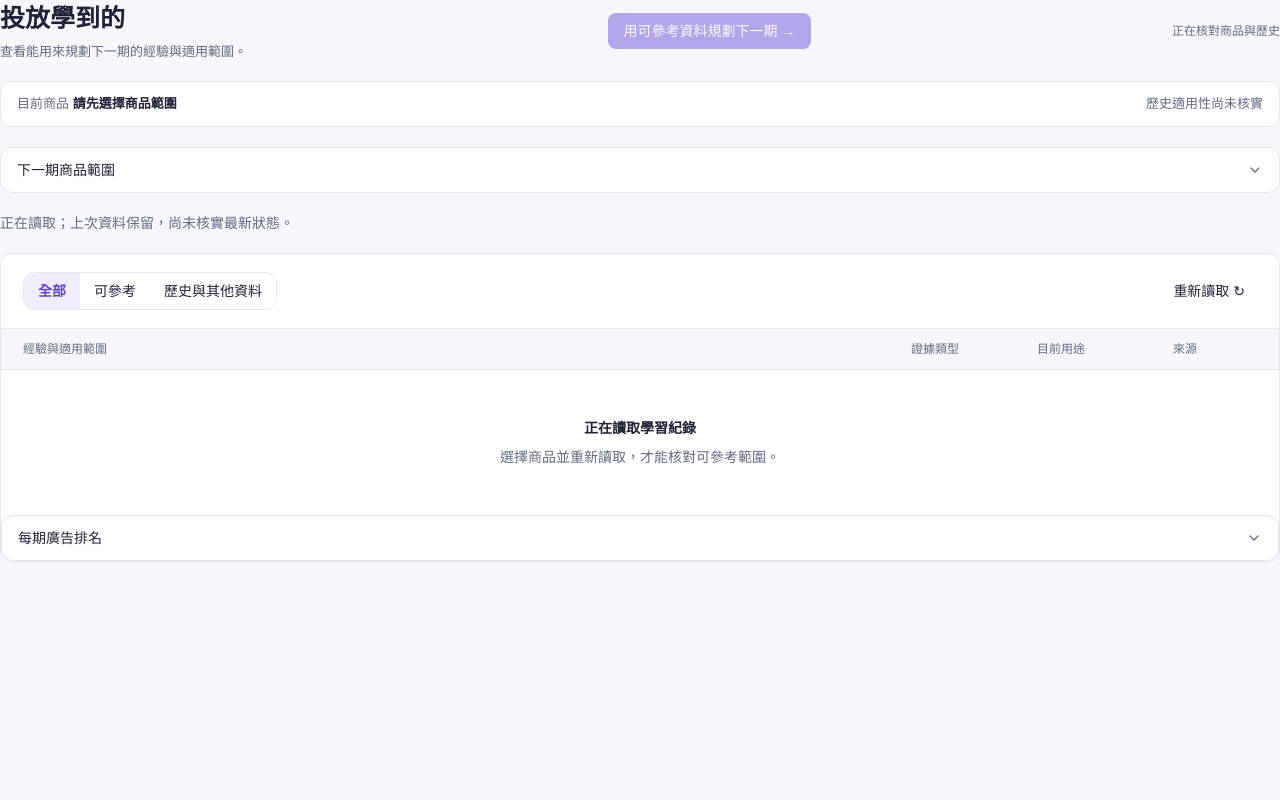
Scenario: LearningsTab 投放學到的 › header: next-plan link to next.new_campaign_href, rule strip and group summary
The width and height of the screenshot is (1280, 800).
Click the button "每期廣告排名": (60, 538) x1=2 y1=516 x2=1278 y2=560
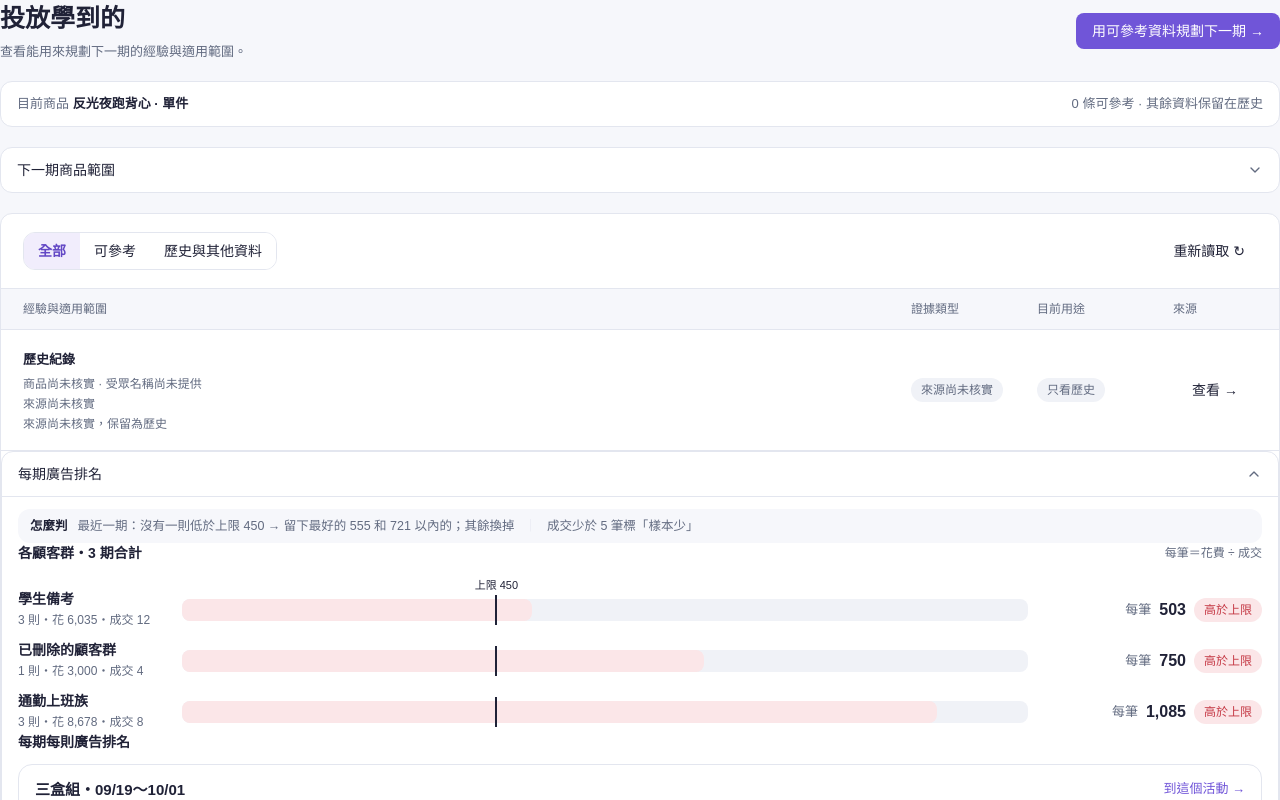
Result: the element labelled "怎麼判" shows "成交少於 5 筆標「樣本少」" at x1=18 y1=508 x2=1262 y2=543
Result: the heading "各顧客群・3 期合計" is shown at x1=18 y1=543 x2=142 y2=563
